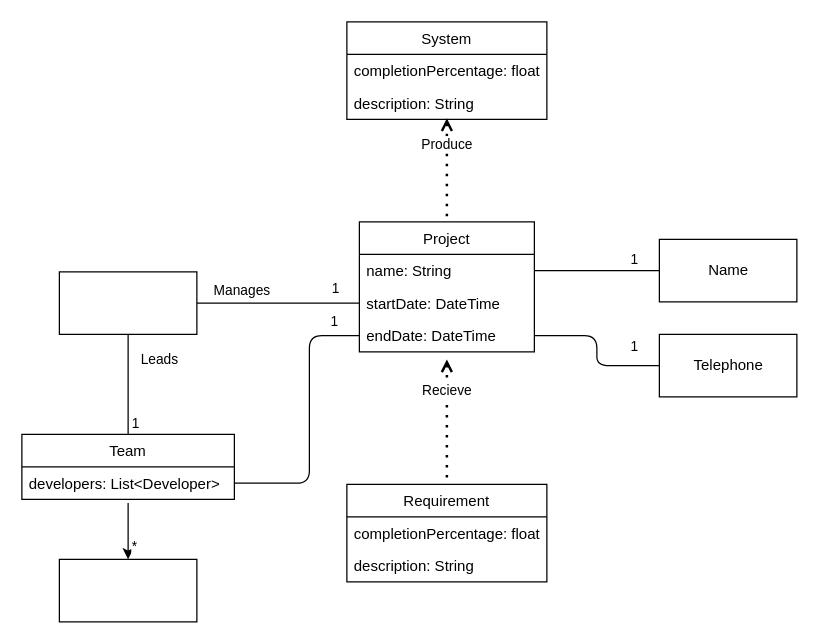
This 819x644 diagram has some shape labels left out. The shapes that lost their labels are listed below. From the top down, each one's centre as x and y in pixels, then its label:
At pixel 127 302: "Project manager".
At pixel 127 590: "Developer".
